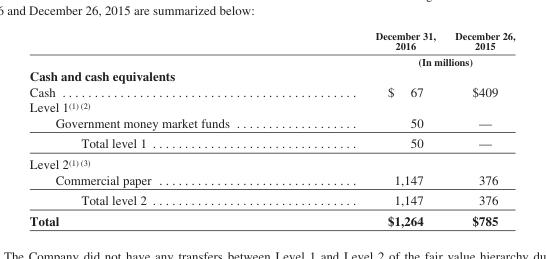table: (28, 29, 514, 227)
table column: (28, 29, 301, 227), (301, 29, 444, 227), (444, 29, 514, 227)
table column header: (28, 29, 514, 67)
table projected row header: (28, 153, 514, 171), (28, 67, 514, 83), (28, 99, 514, 114)
table row: (28, 29, 514, 53), (28, 132, 514, 153), (28, 189, 514, 209), (28, 114, 514, 132), (28, 153, 514, 171), (28, 171, 514, 189), (28, 209, 514, 227), (28, 67, 514, 83), (28, 83, 514, 99), (28, 99, 514, 114), (28, 53, 514, 67)
table spanning cell: (301, 53, 514, 67)
